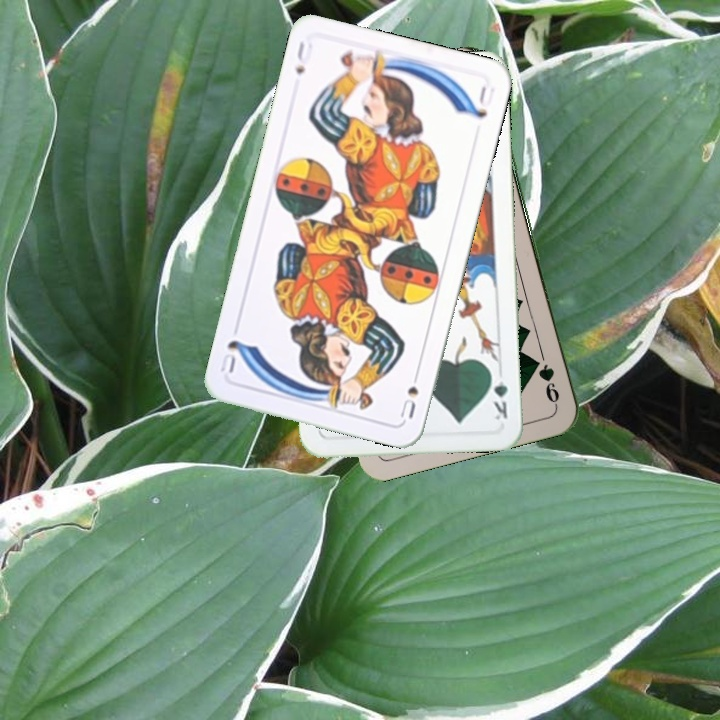G9: (534, 360, 562, 409)
GK: (487, 366, 510, 423)
SU: (396, 364, 422, 421), (291, 37, 316, 77)
